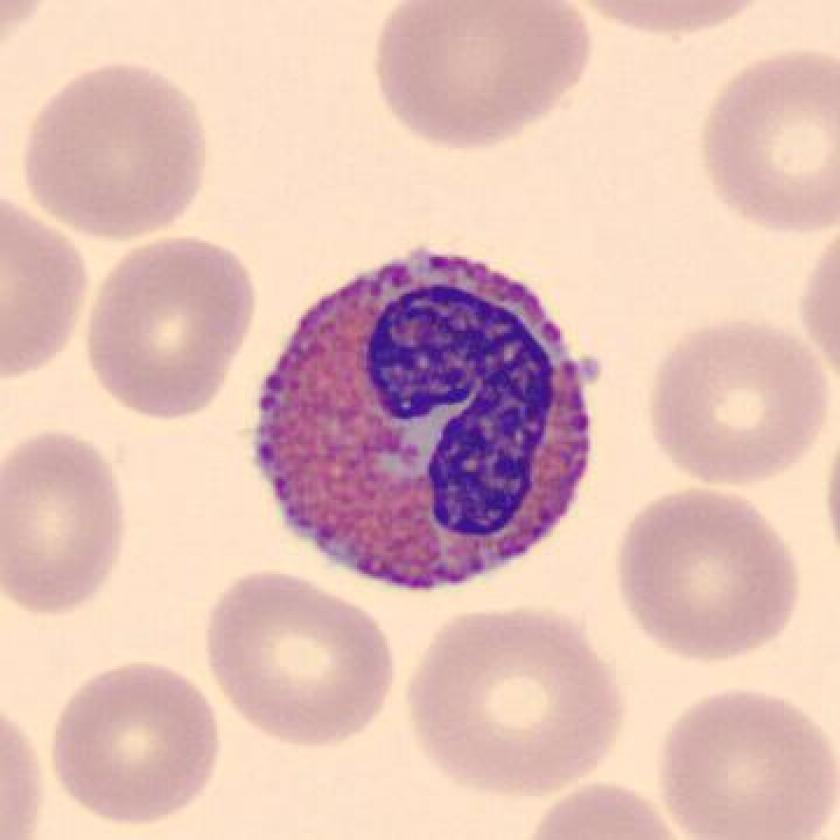eosinophil: (242, 235, 613, 610)
